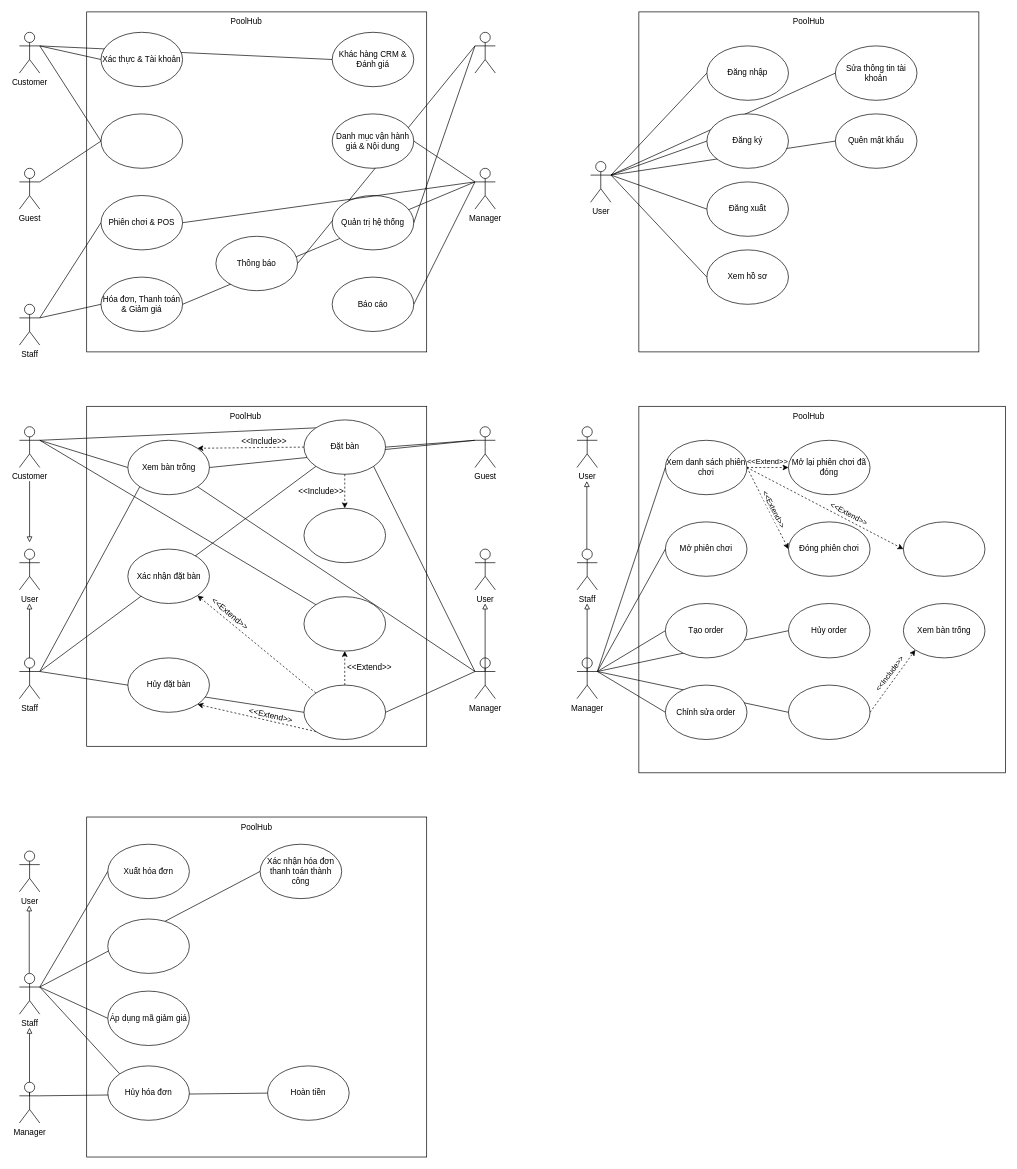
Some shapes in this 1017 by 1169 pixel diagram are drawn without their labels. Here are the shapes that lost their labels. From the top down, the centre of each, then its label:
At pixel 484 52: "Admin".
At pixel 141 140: "Đặt bàn & Tiền cọc".
At pixel 344 535: "Thanh toán tiền cọc".
At pixel 944 548: "Hủy phiên chơi".
At pixel 344 623: "Chỉnh sửa thông tin đặt bàn".
At pixel 344 712: "Xem danh sách đặt bàn".
At pixel 829 712: "Chuyển bàn".
At pixel 148 945: "Chỉnh sửa hóa đơn".
